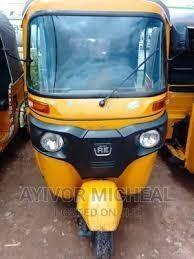keke: (15, 1, 180, 258)
